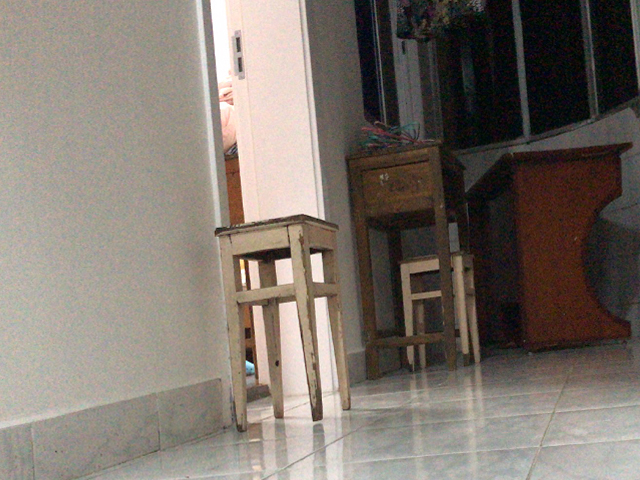stool: (344, 141, 486, 380), (211, 213, 353, 431)
table: (461, 138, 634, 354)
